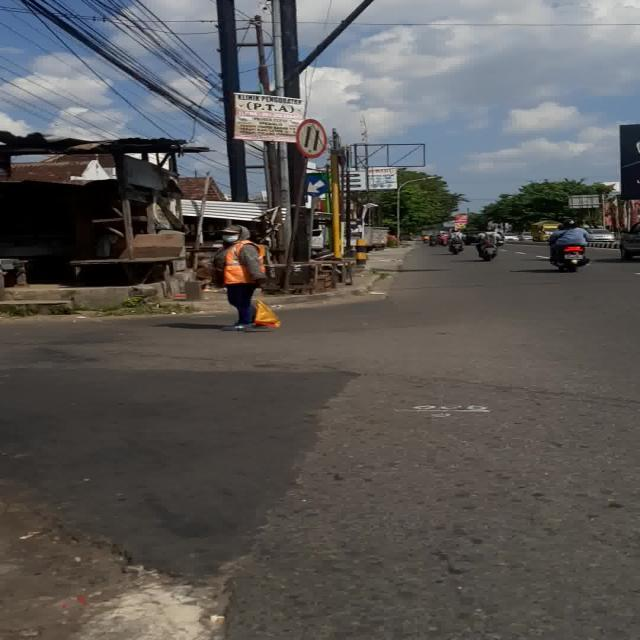Larangan Muatan - 10 ton: (296, 119, 327, 158)
